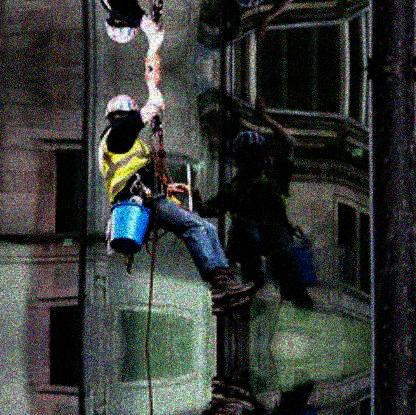helmet: (104, 12, 142, 45), (232, 129, 266, 165), (105, 95, 141, 124)
